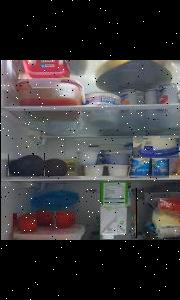Aguacate: (8, 154, 44, 176), (40, 158, 68, 176)
Leche: (99, 182, 130, 240)
Mantequilla: (18, 60, 69, 79)
Queso: (135, 188, 180, 238)
Tomate: (13, 213, 36, 233), (32, 208, 52, 228), (54, 211, 75, 227)
Yogur: (130, 156, 152, 178), (152, 156, 169, 178)
